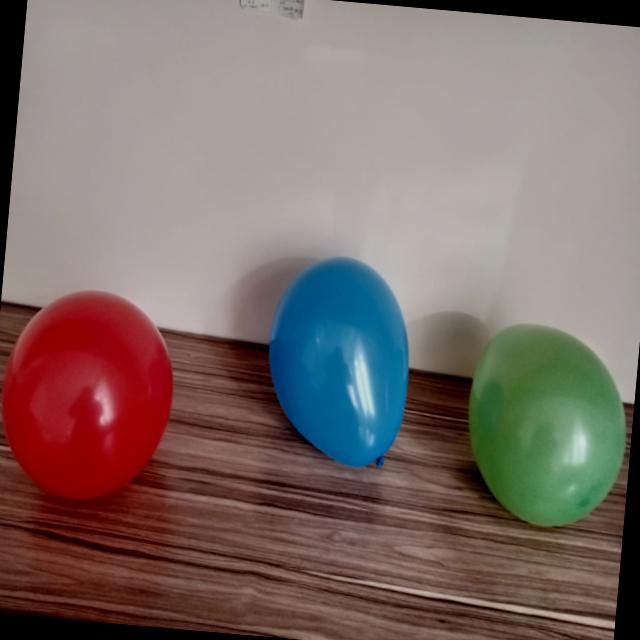balloon: (2, 291, 173, 499), (469, 324, 626, 526), (269, 257, 408, 466)
